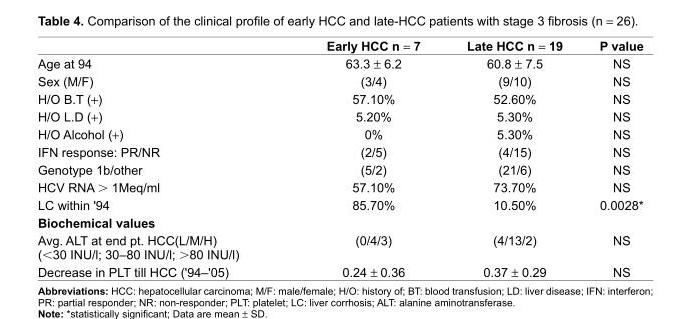table: (36, 37, 642, 279)
table column: (36, 37, 282, 279), (282, 37, 442, 279), (442, 37, 580, 279), (580, 37, 642, 279)
table column header: (36, 37, 642, 54)
table projected row header: (36, 213, 642, 231)
table row: (36, 231, 642, 262), (36, 124, 642, 143), (36, 54, 642, 72), (36, 89, 642, 107), (36, 160, 642, 178), (36, 195, 642, 213), (36, 213, 642, 231), (36, 37, 642, 54), (36, 72, 642, 89), (36, 107, 642, 124), (36, 143, 642, 160), (36, 178, 642, 195), (36, 262, 642, 279)
